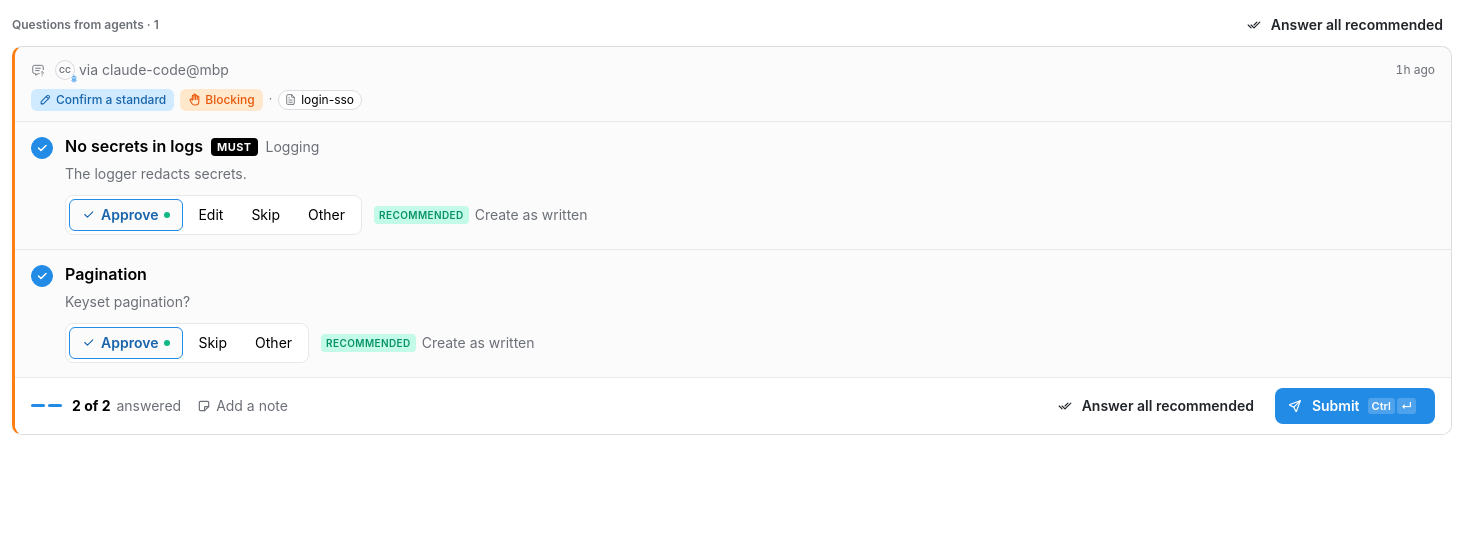
Test case: question cards › Edit reveals a text field; the answer carries the change ("Edit: ...") and Submit waits for it
This screenshot has width=1464, height=547.
Later steps or results of the test are not shown.
Expected: the button with test id "q-submit" is enabled, [1275, 388, 1435, 424]
Click the radio button labelled "Edit". click: (211, 215)
box: [185, 199, 236, 231]
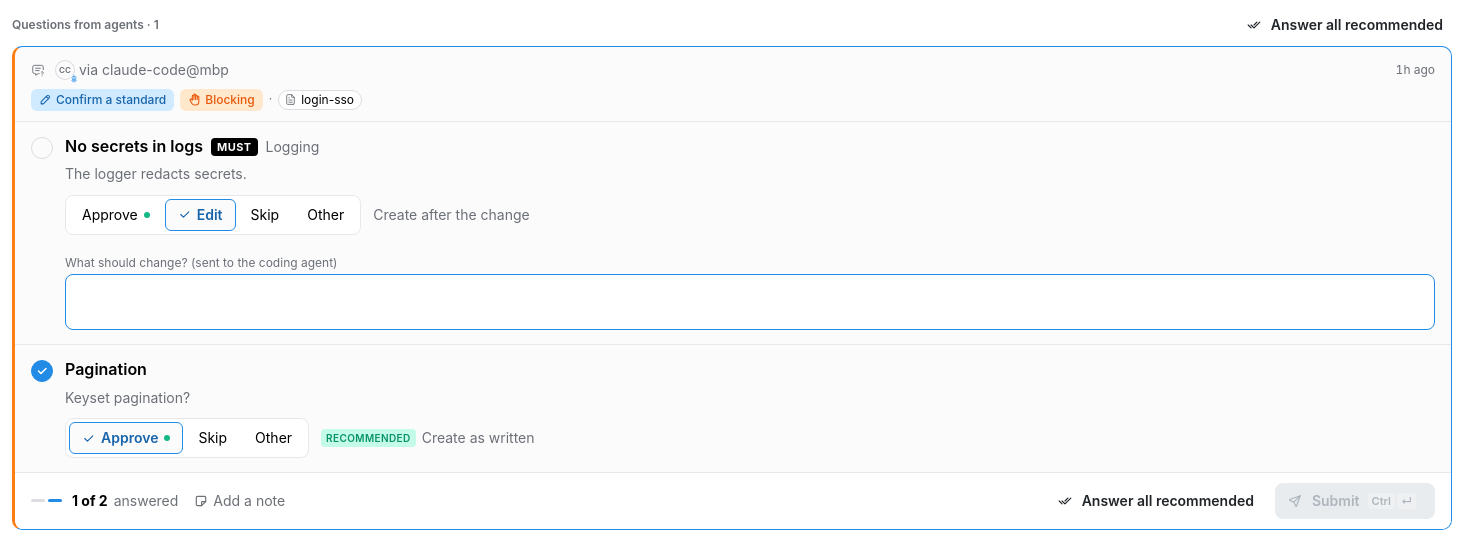
Result: the text "What should change? (sent to the coding agent)" is shown at [65, 254, 337, 272]
Result: the button with test id "q-submit" is disabled at [1275, 483, 1435, 519]
Result: the element with test id "q-progress" shows "1 of 2" at [31, 490, 178, 512]
Type "Also mask card numbers." into the text box named "What should change: No secrets in logs". click: (750, 302)
box: [65, 274, 1435, 330]
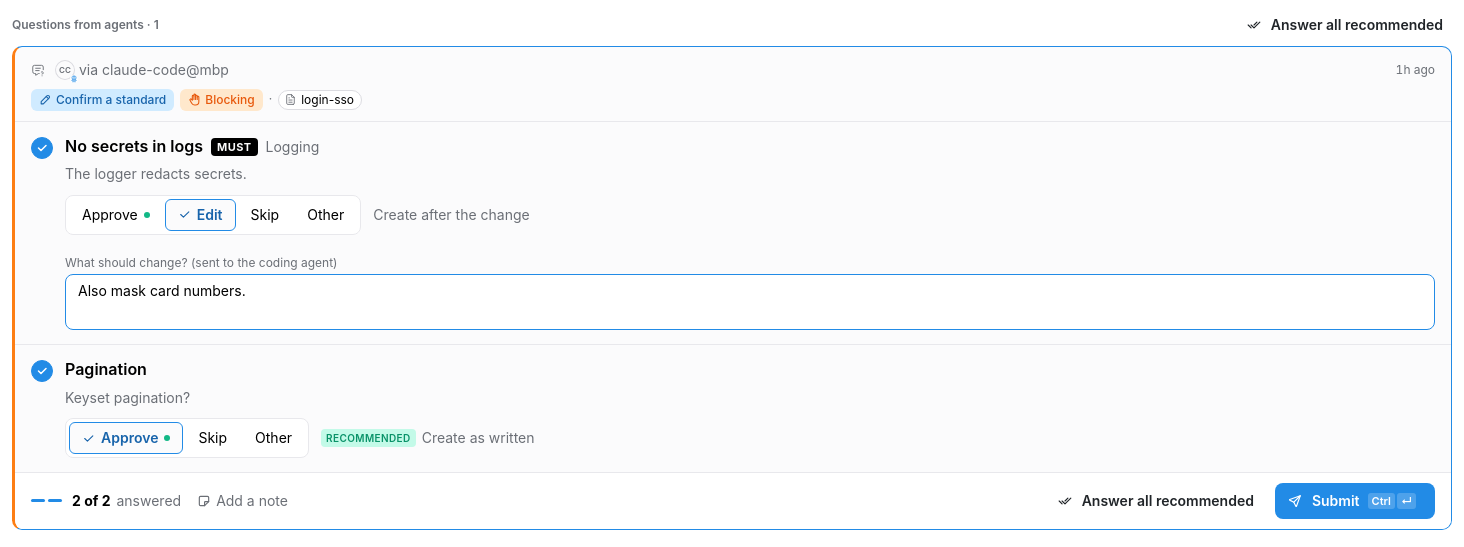
Result: the element with test id "q-progress" shows "2 of 2" at [31, 490, 181, 512]
